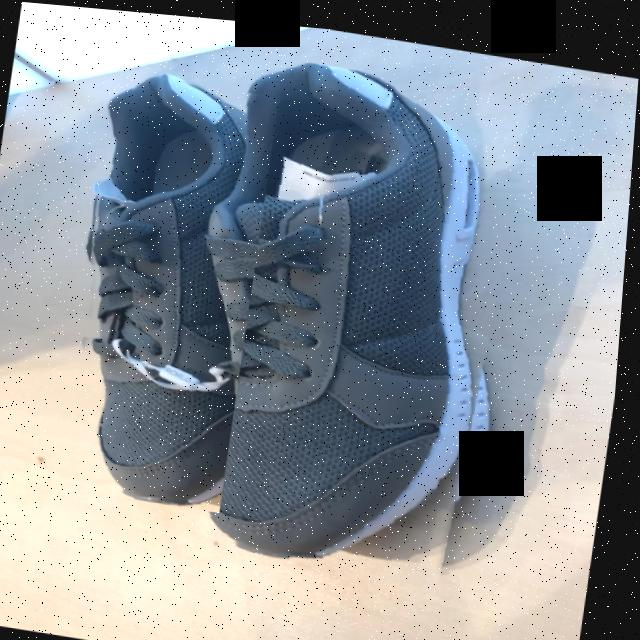shoe: (209, 56, 480, 560), (94, 74, 248, 501)
